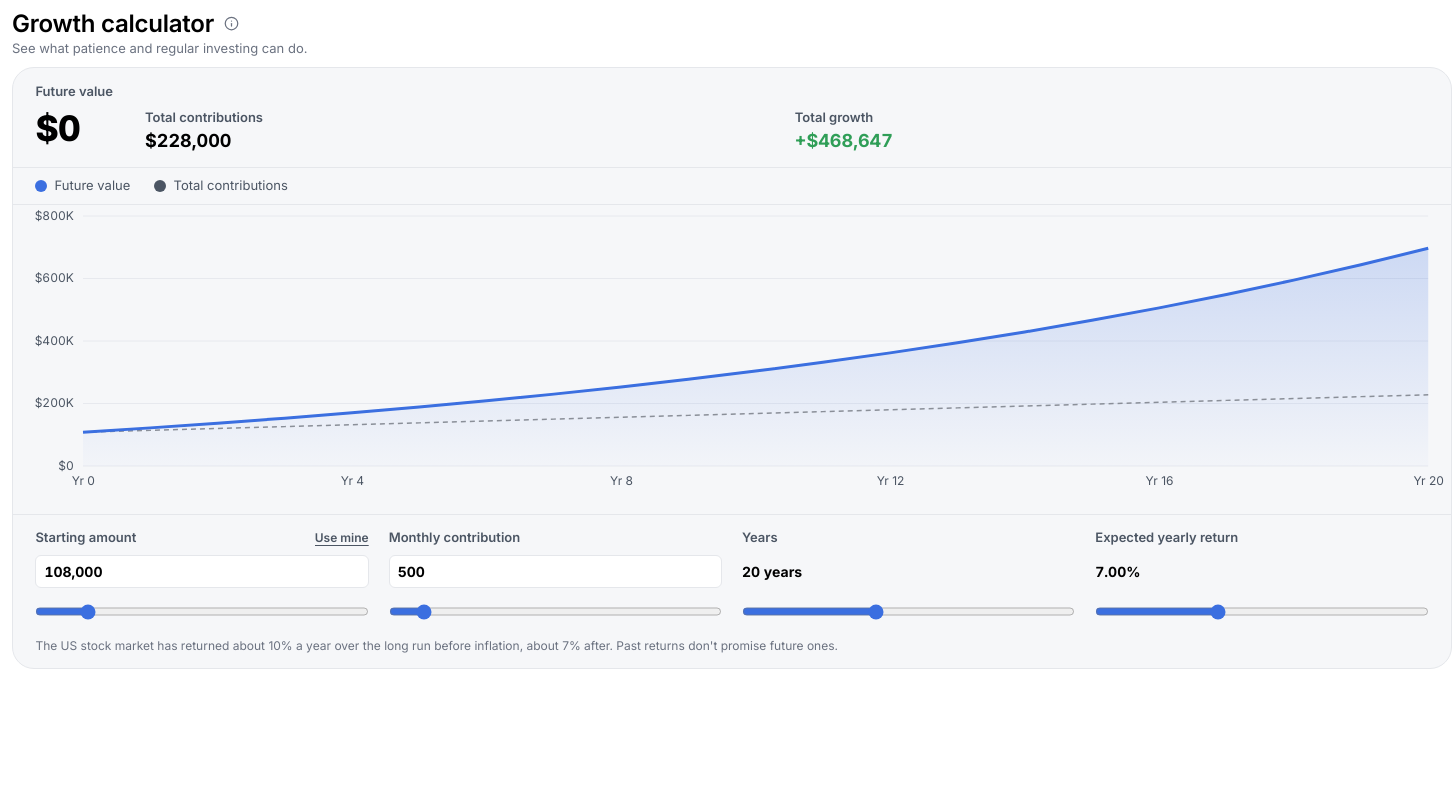
Test: GrowthCalculator › starts from the portfolio's value when there is one
Check: the field named "Starting amount, exact" holds "108,000", box top-left (35, 555), bottom-right (369, 588)
Click the button "Use mine" at (342, 538), box top-left (315, 529), bottom-right (369, 547)
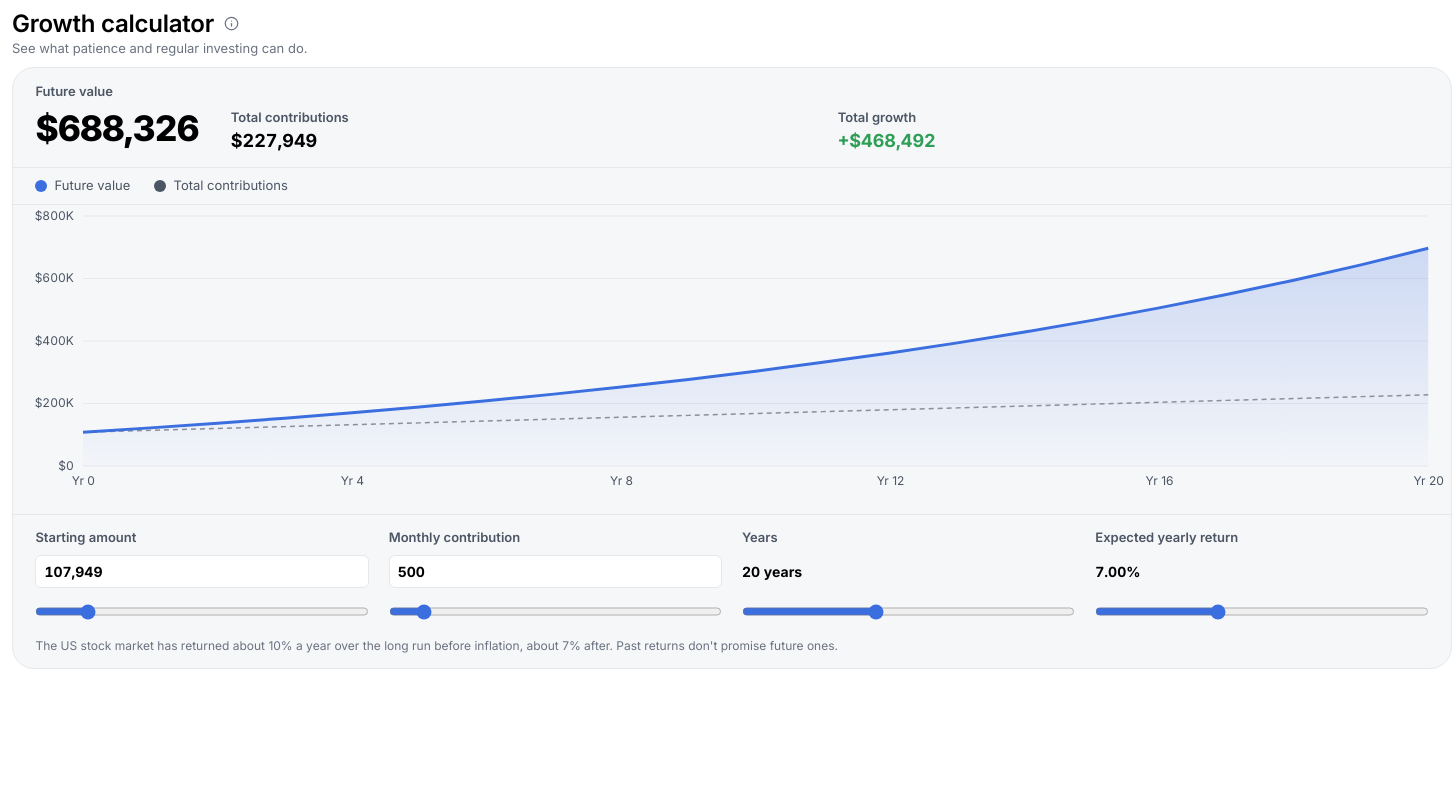
Check: the field named "Starting amount, exact" holds "107,949", box top-left (35, 555), bottom-right (369, 588)
